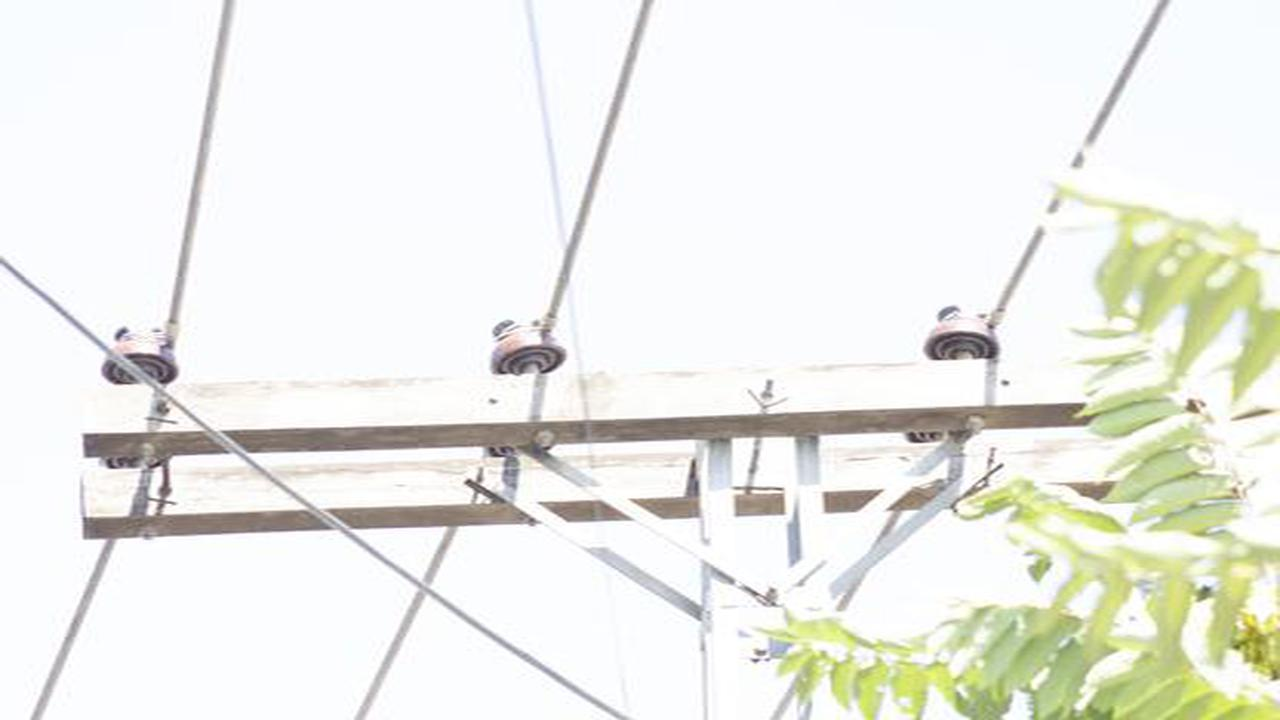insulator_pin: (100, 317, 184, 391), (487, 315, 568, 381), (922, 301, 1008, 358)
